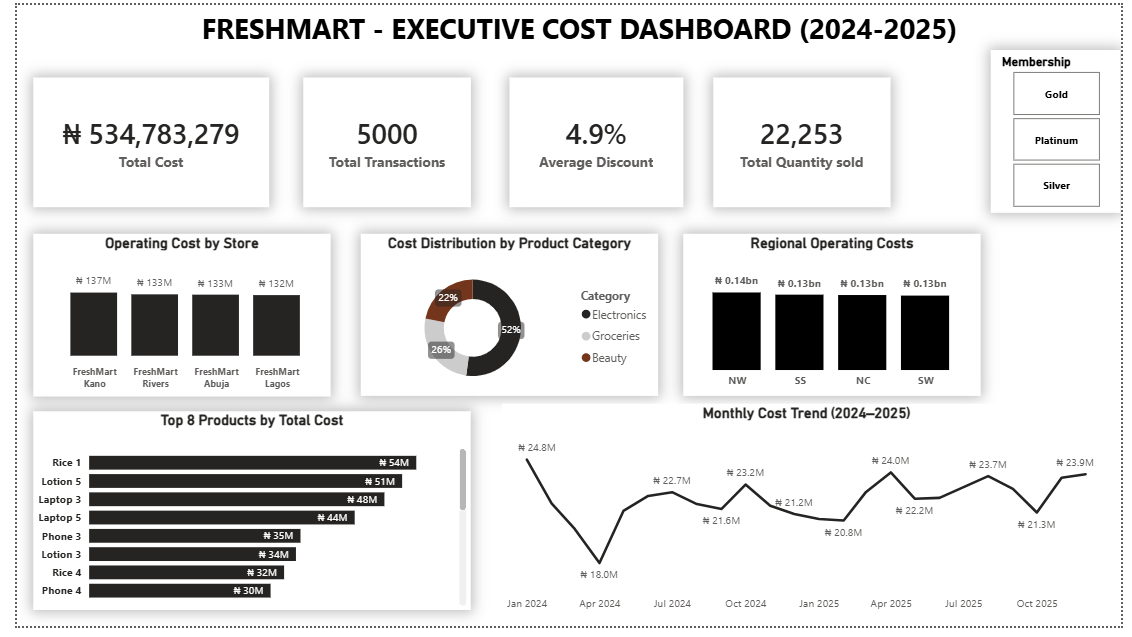

The page's visual inventory and layout, read from the dashboard file:
{"tool":"powerbi","page":{"name":"Cost","canvas":[1280,720],"ordinal":1},"visuals":[{"type":"textbox","box":[175.4,0,953.6,52.2],"z":0},{"type":"cardVisual","fields":{"Data":["PRACTICE.Total Cost"]},"box":[18.8,84.1,273.9,150.7],"z":2000},{"type":"cardVisual","fields":{"Data":["PRACTICE.Total Transactions"]},"box":[331.9,84.1,194.2,150.7],"z":3000},{"type":"cardVisual","fields":{"Data":["PRACTICE.Average Discount"]},"box":[571,84.1,201.4,150.7],"z":4000},{"type":"cardVisual","fields":{"Data":["PRACTICE.Total Quantity sold"]},"box":[807.2,84.1,205.8,150.7],"z":5000},{"type":"columnChart","title":"Operating Cost by Store","fields":{"Category":["Dim_Stores.Store"],"Y":["PRACTICE.Total Cost"]},"box":[18.8,265.2,344.9,188.4],"z":6000},{"type":"donutChart","title":"Cost Distribution by Product Category","fields":{"Category":["Dim_Products.Category"],"Y":["PRACTICE.Total Cost"]},"box":[398.6,265.2,345,188],"z":7000},{"type":"clusteredColumnChart","title":"Regional Operating Costs","fields":{"Category":["Dim_Stores.Region"],"Y":["PRACTICE.Total Cost"]},"box":[772.5,265.2,345,188],"z":8000},{"type":"lineChart","title":"Monthly Cost Trend (2024–2025)","fields":{"Y":["PRACTICE.Total Cost"],"Category":["Fact_Sales.Date.Variation.Date Hierarchy.Year","Fact_Sales.Date.Variation.Date Hierarchy.Month"]},"box":[562.3,462.3,705.8,249.3],"z":9000},{"type":"clusteredBarChart","title":"Top 8 Products by Total Cost","fields":{"Category":["Dim_Products.Product"],"Y":["PRACTICE.Total Cost"]},"box":[18.8,471,507.2,230.4],"z":10000},{"type":"slicer","fields":{"Values":["Dim_Customers.Membership"]},"box":[1129,52.2,150.7,188.4],"z":11000}]}

Visuals, with their boxes in screenshot pixels (x1, y1, x2, y2), scaled from the page's 1280x720 canvas onto the 1132x637 screenshot:
textbox: {"left": 155, "top": 0, "right": 998, "bottom": 46}
cardVisual - PRACTICE.Total Cost: {"left": 17, "top": 74, "right": 259, "bottom": 208}
cardVisual - PRACTICE.Total Transactions: {"left": 294, "top": 74, "right": 465, "bottom": 208}
cardVisual - PRACTICE.Average Discount: {"left": 505, "top": 74, "right": 683, "bottom": 208}
cardVisual - PRACTICE.Total Quantity sold: {"left": 714, "top": 74, "right": 896, "bottom": 208}
"Operating Cost by Store" columnChart: {"left": 17, "top": 235, "right": 322, "bottom": 401}
"Cost Distribution by Product Category" donutChart: {"left": 353, "top": 235, "right": 658, "bottom": 401}
"Regional Operating Costs" clusteredColumnChart: {"left": 683, "top": 235, "right": 988, "bottom": 401}
"Monthly Cost Trend (2024–2025)" lineChart: {"left": 497, "top": 409, "right": 1121, "bottom": 630}
"Top 8 Products by Total Cost" clusteredBarChart: {"left": 17, "top": 417, "right": 465, "bottom": 621}
slicer - Dim_Customers.Membership: {"left": 998, "top": 46, "right": 1131, "bottom": 213}
